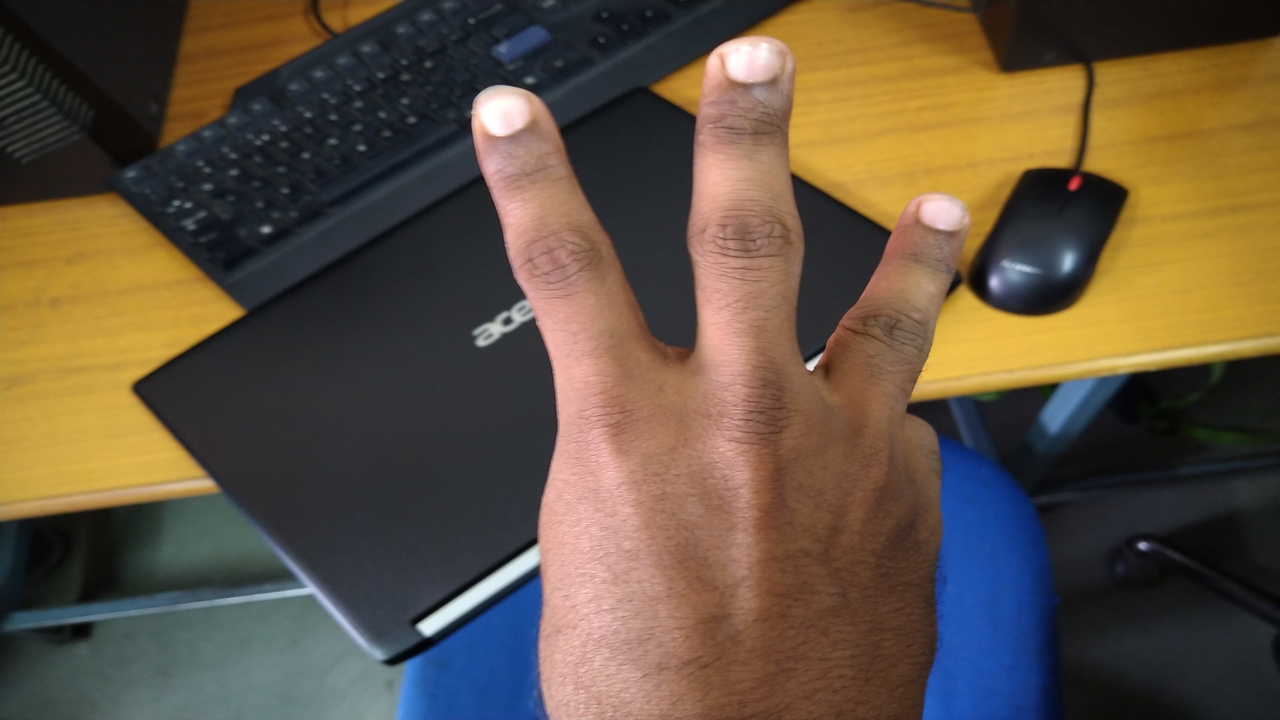fingertip: (704, 26, 800, 104), (456, 78, 550, 156), (904, 186, 978, 252)
